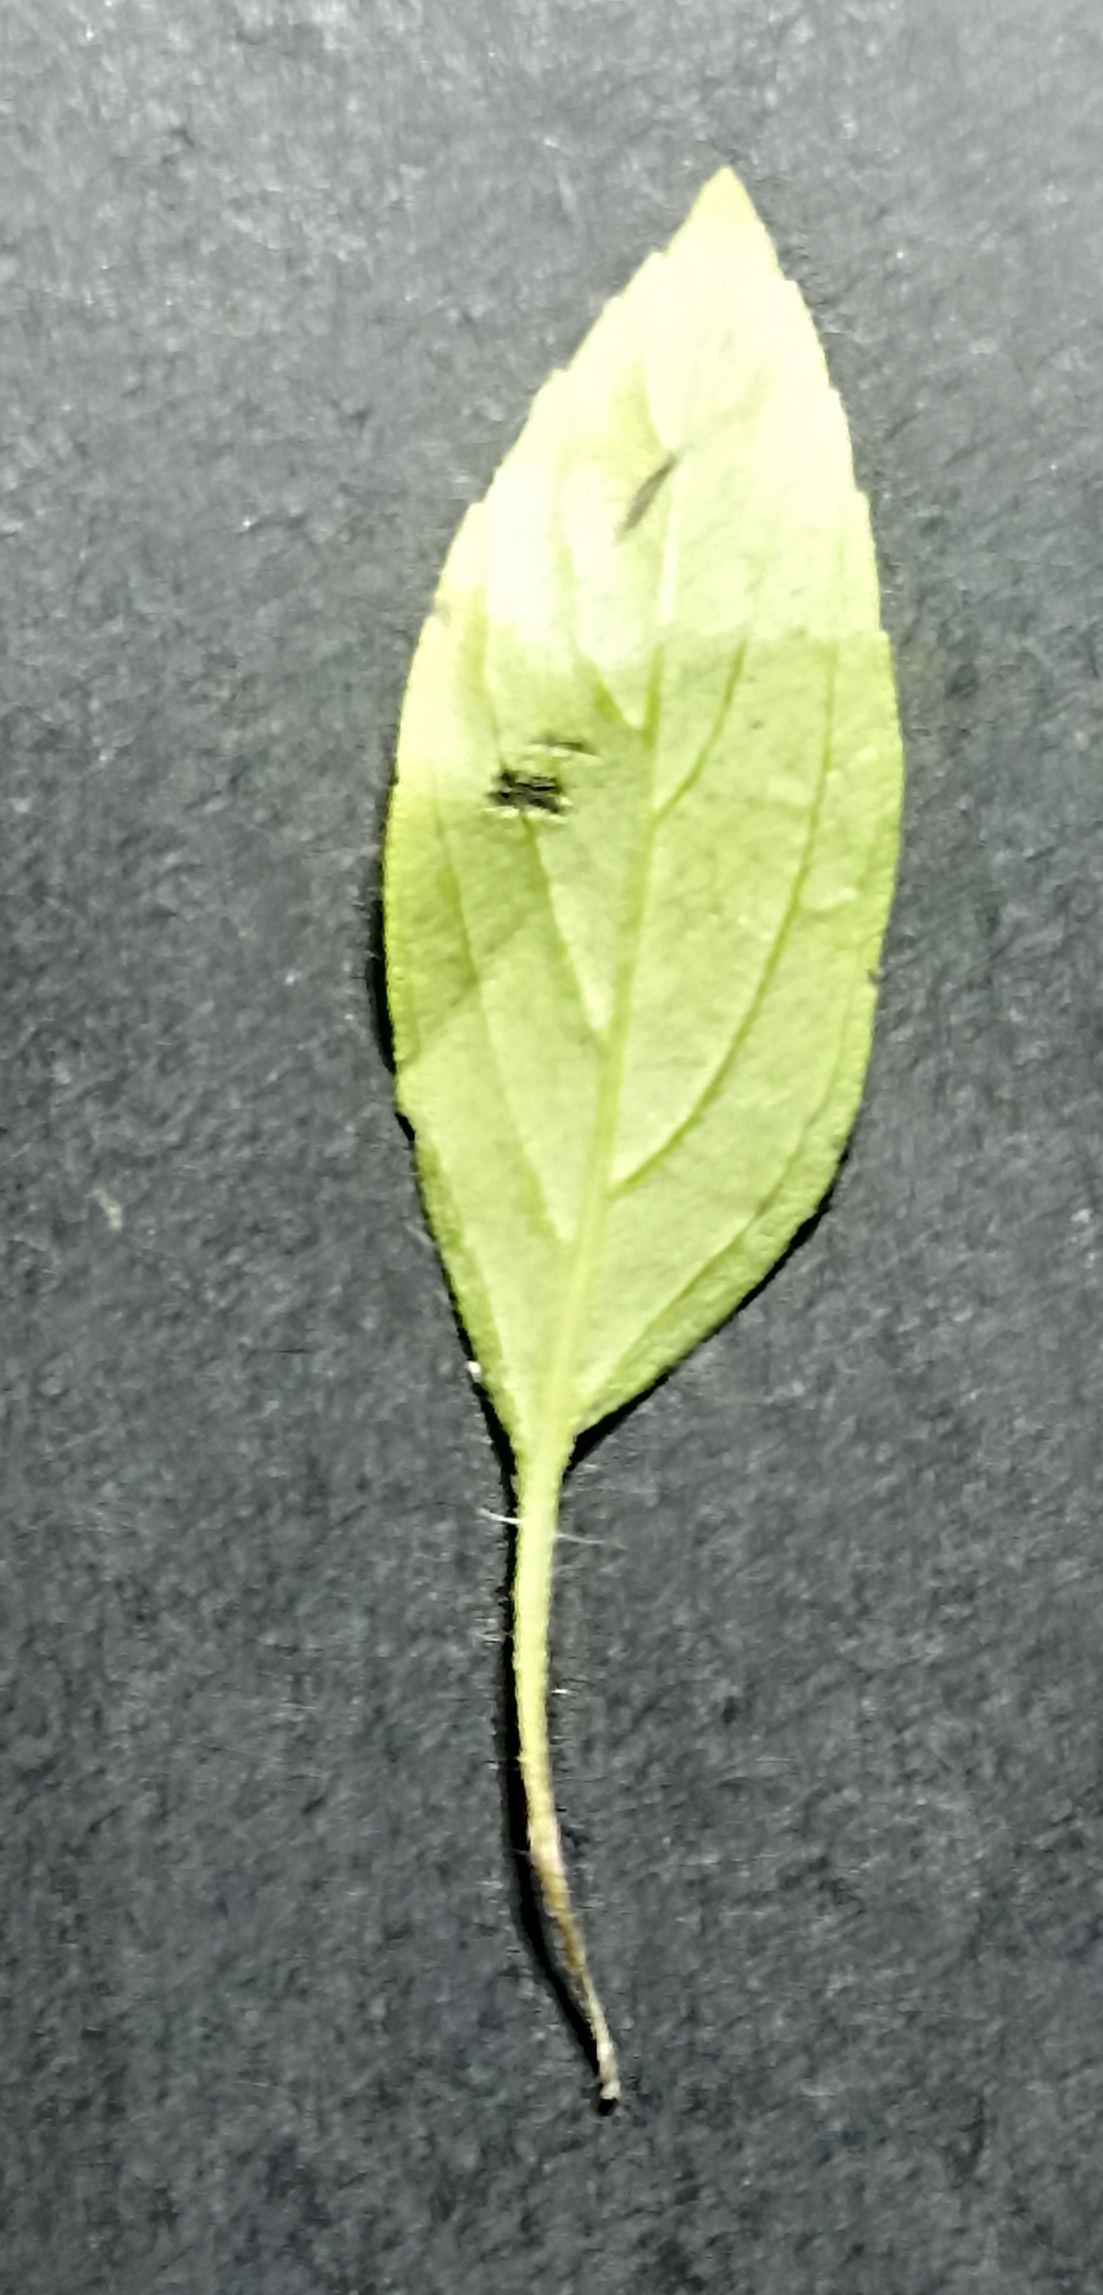Unhealthy: (366, 146, 922, 1519)
